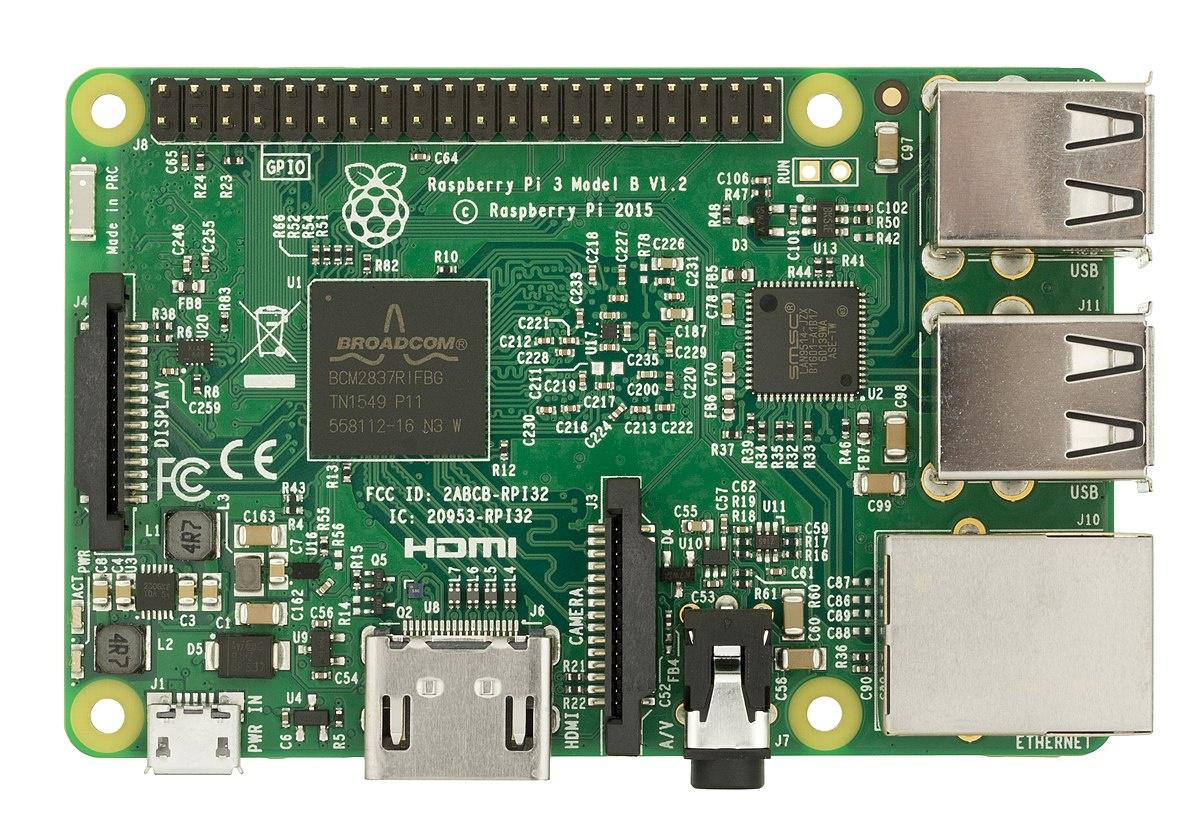audiojack: (686, 605, 778, 788)
bchi: (309, 275, 494, 469)
ethernet: (880, 526, 1158, 739)
gpio: (152, 72, 784, 149)
usb: (925, 308, 1162, 482), (934, 78, 1158, 252)
